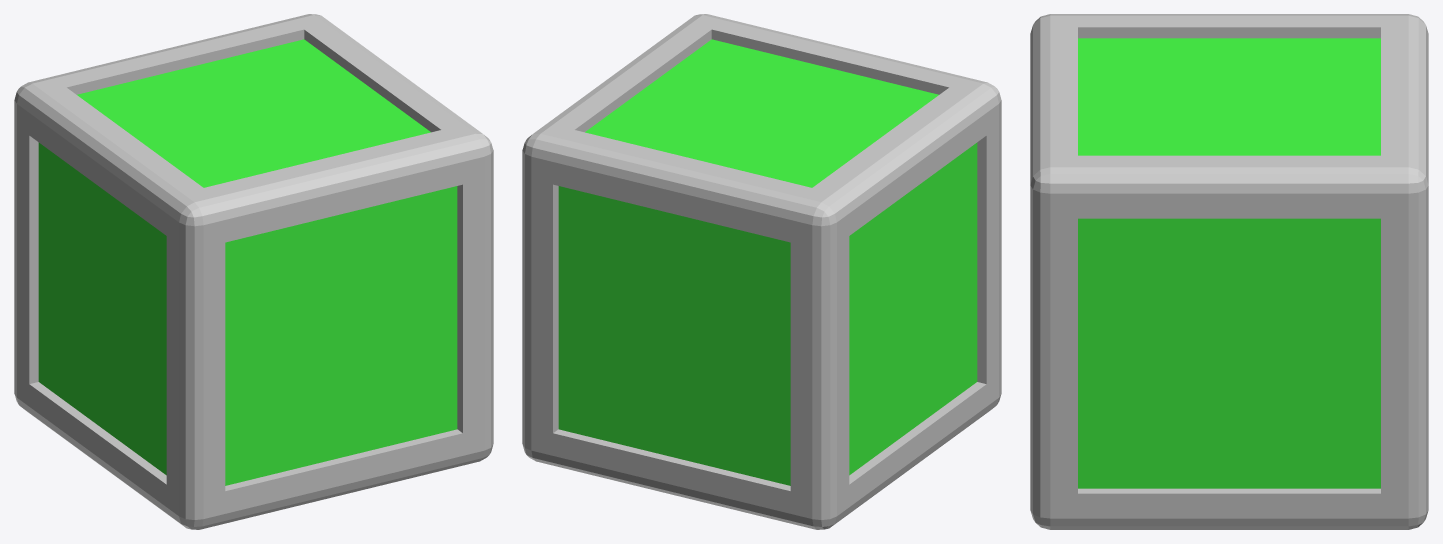
The model's file is PickupMines.fbx.
3 views of the same model, side by side, from view 1: azimuth 30°, elevation 25°; view 2: azimuth 150°, elevation 25°; view 3: azimuth 270°, elevation 25° (orthographic). The views are drawn at different scales.
Parts seen in each view (by area): view 1: Cube; view 2: Cube; view 3: Cube.
Part boxes in pixels (x1=…): Cube: x1=14, y1=14, x2=493, y2=529; Cube: x1=522, y1=14, x2=1001, y2=529; Cube: x1=1030, y1=14, x2=1428, y2=529.
Size of the model in its own units: 1.5 by 1.5 by 1.5.
